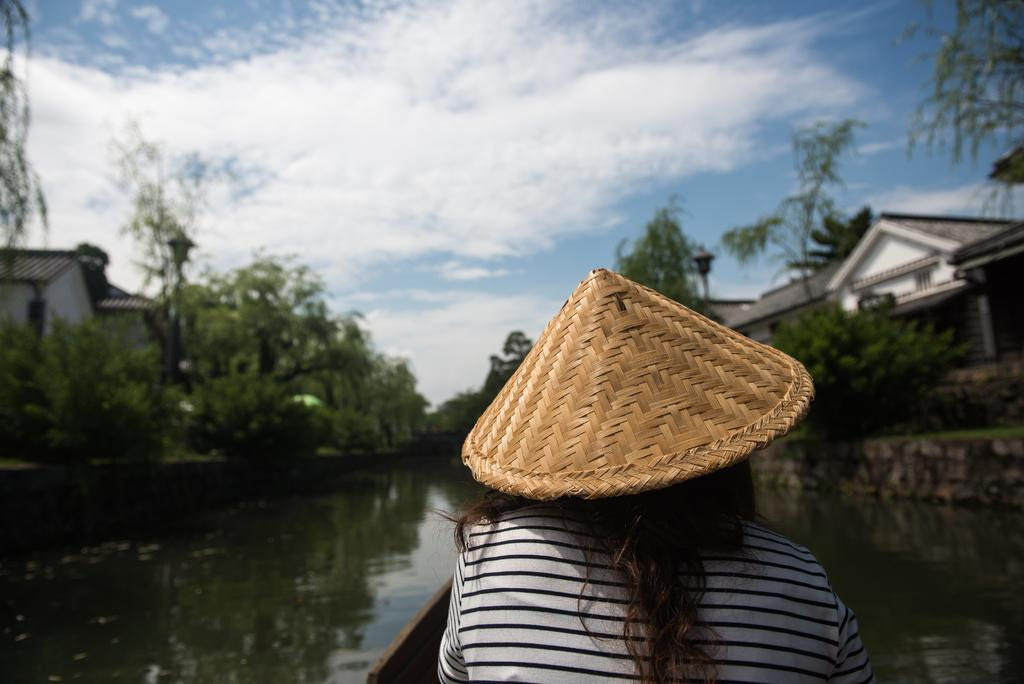Hat: (458, 267, 820, 498)
